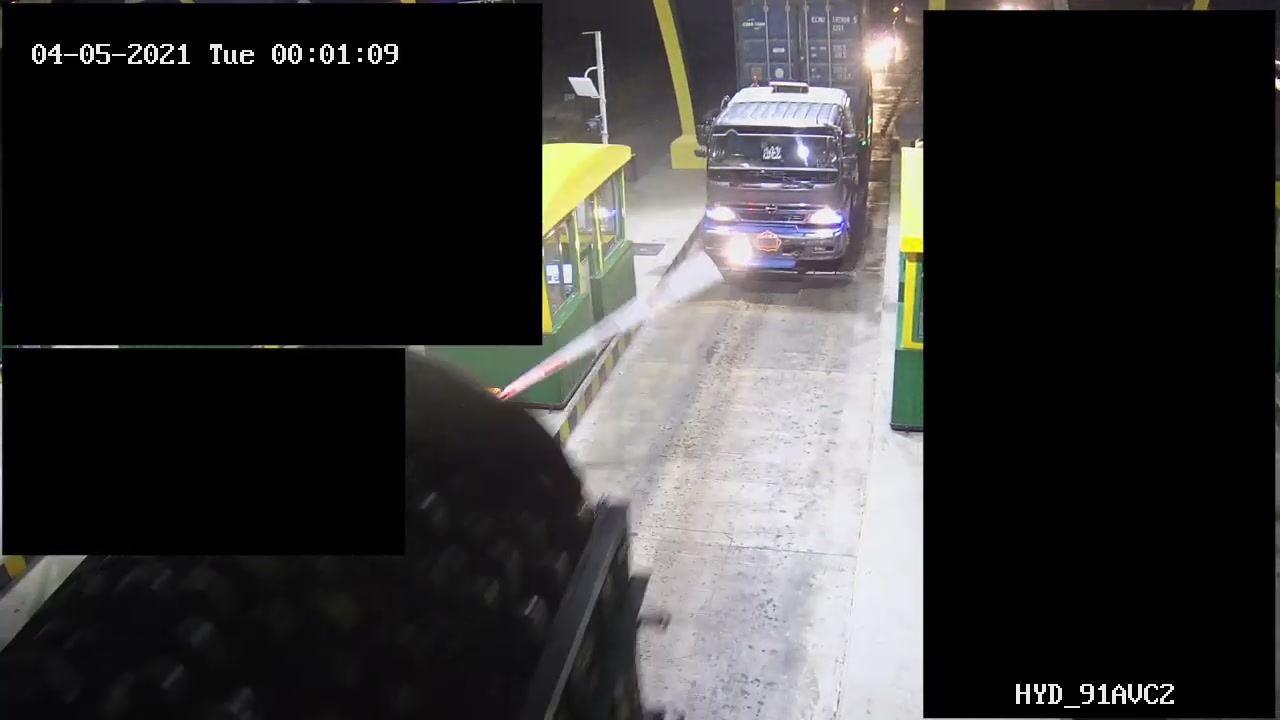F6: (697, 1, 868, 273)
